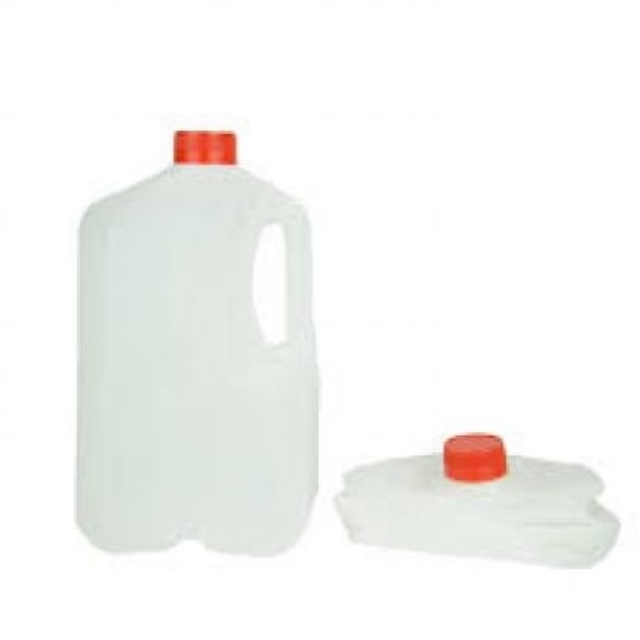trash: (77, 131, 315, 552), (335, 432, 617, 566)
